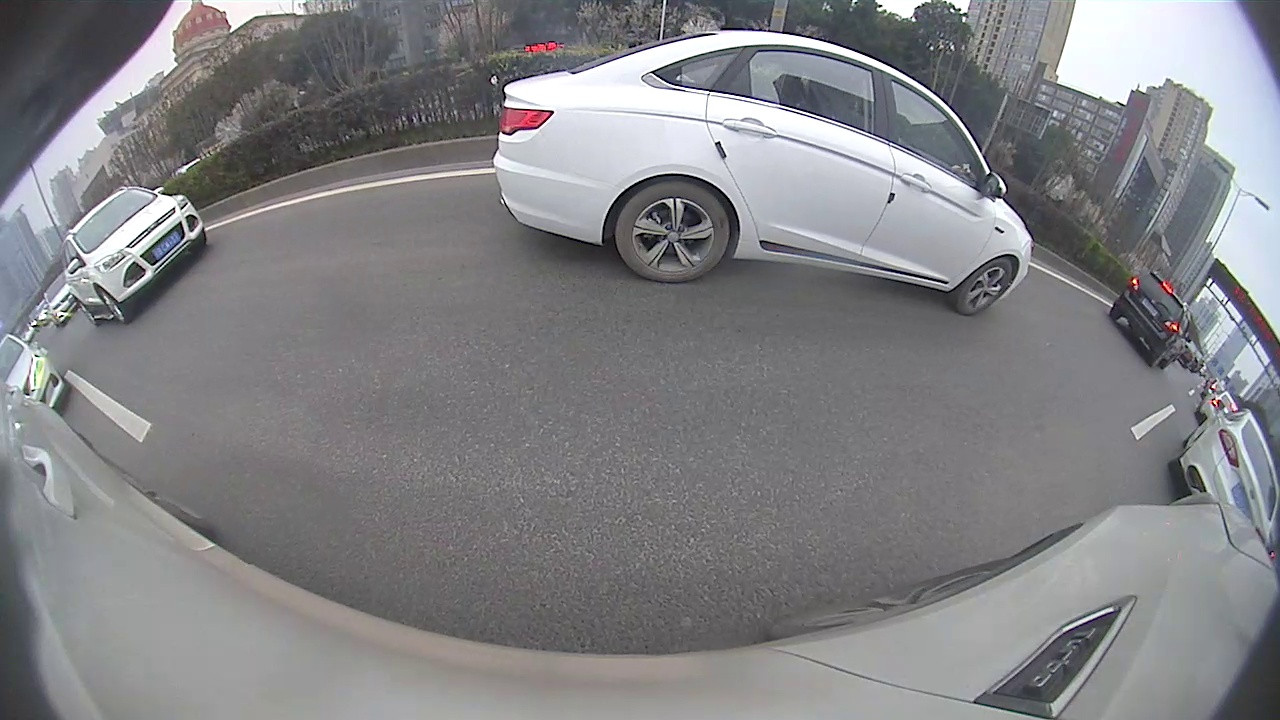car: (489, 28, 1038, 320), (58, 183, 210, 327), (1167, 398, 1279, 552), (1108, 268, 1193, 371), (2, 332, 73, 418)
front: (952, 254, 1014, 315), (99, 286, 129, 321)
rear: (616, 176, 731, 283)
